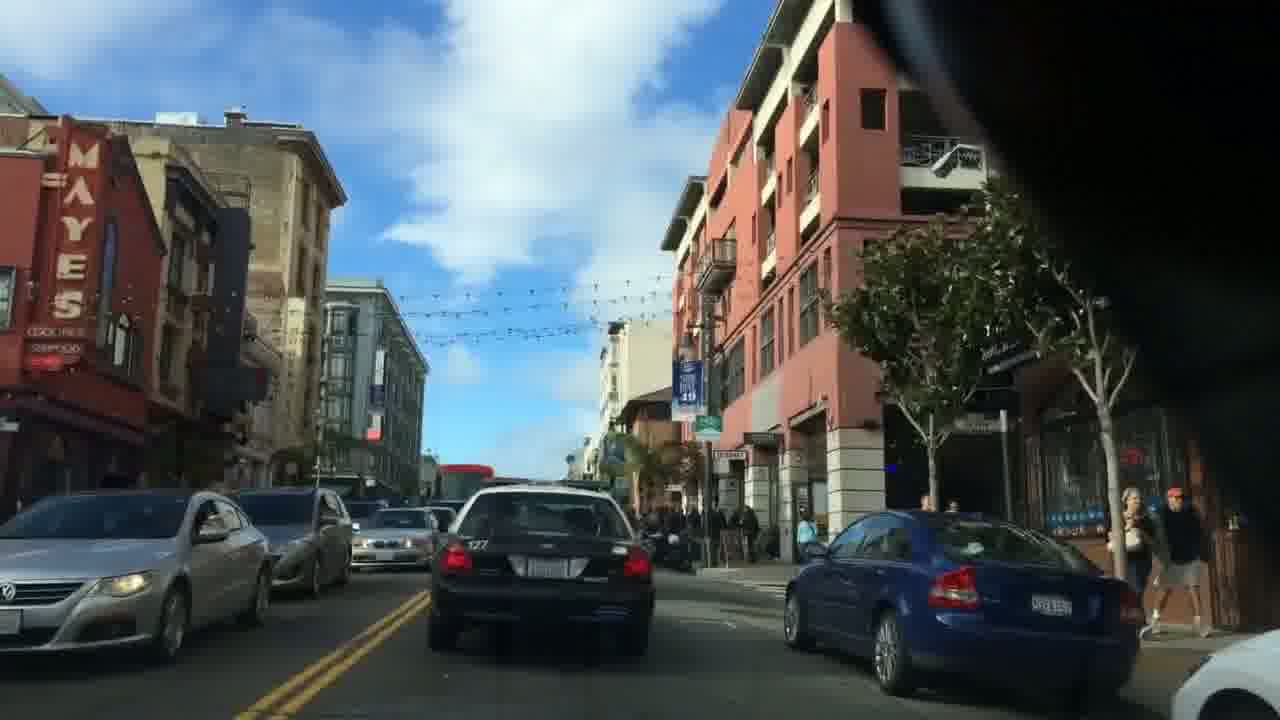car: (782, 507, 1148, 706), (0, 486, 275, 660), (426, 484, 656, 659), (228, 486, 352, 595), (346, 504, 441, 572)
pedestrian: (1146, 485, 1216, 639), (1104, 485, 1155, 627), (735, 503, 760, 564), (794, 508, 818, 559)
